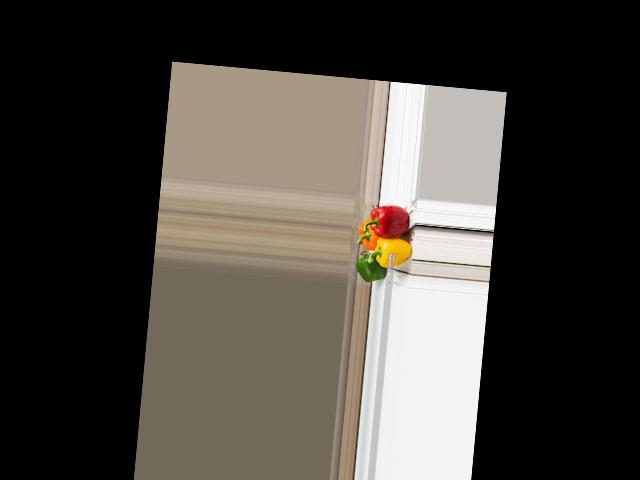bell_pepper: (356, 217, 382, 252)
